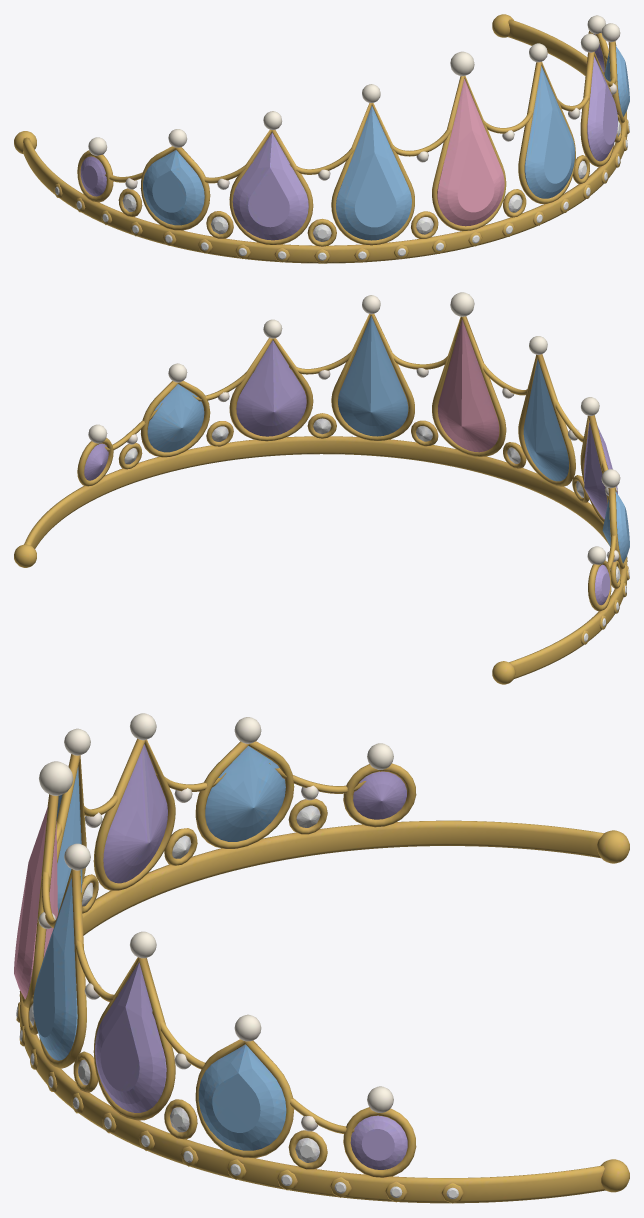
File: tiara.glb
3 renders of one model, top to bottom at view 1: azimuth 30°, elevation 25°; view 2: azimuth 150°, elevation 25°; view 3: azimuth 270°, elevation 25°, orthographic. The views are drawn at different scales.
Visible parts, largest first — view 1: tiara_body; view 2: tiara_body; view 3: tiara_body.
Boxes of the visible parts, x1=… form: tiara_body: x1=14, y1=14, x2=629, y2=263; tiara_body: x1=14, y1=292, x2=629, y2=684; tiara_body: x1=14, y1=713, x2=629, y2=1203.
Bounding box in the file's own units: 0.1343 × 0.0452 × 0.0958.
1 material, 1 textured.
